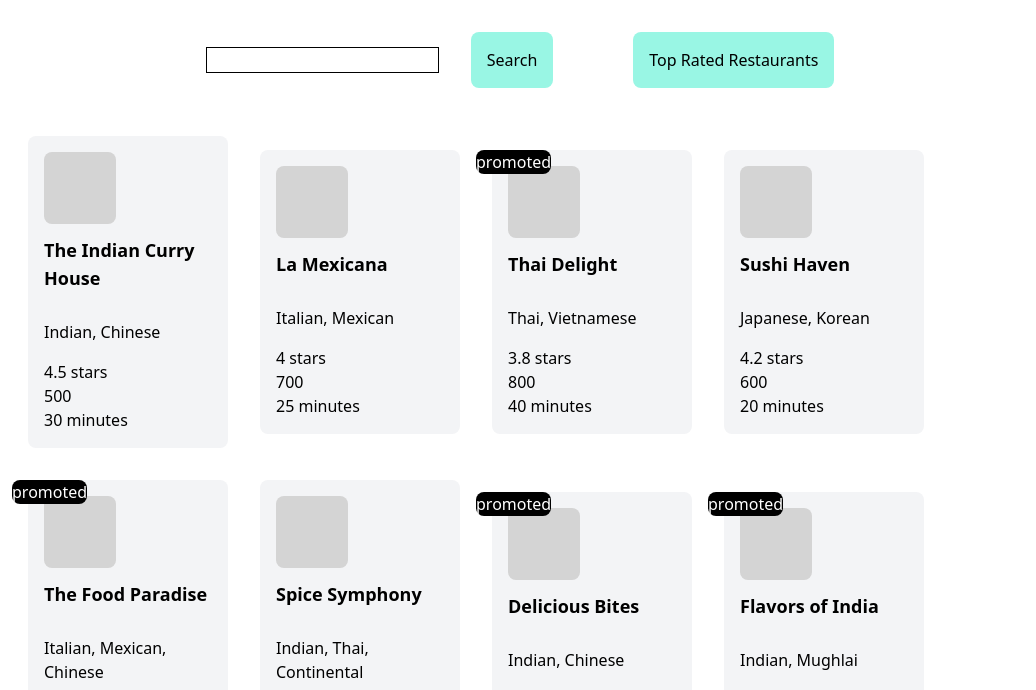
Test: should search relist for delight text input
Type "delight" into the field with test id "searchInput" at (322, 60), box top-left (206, 47), bottom-right (439, 73)
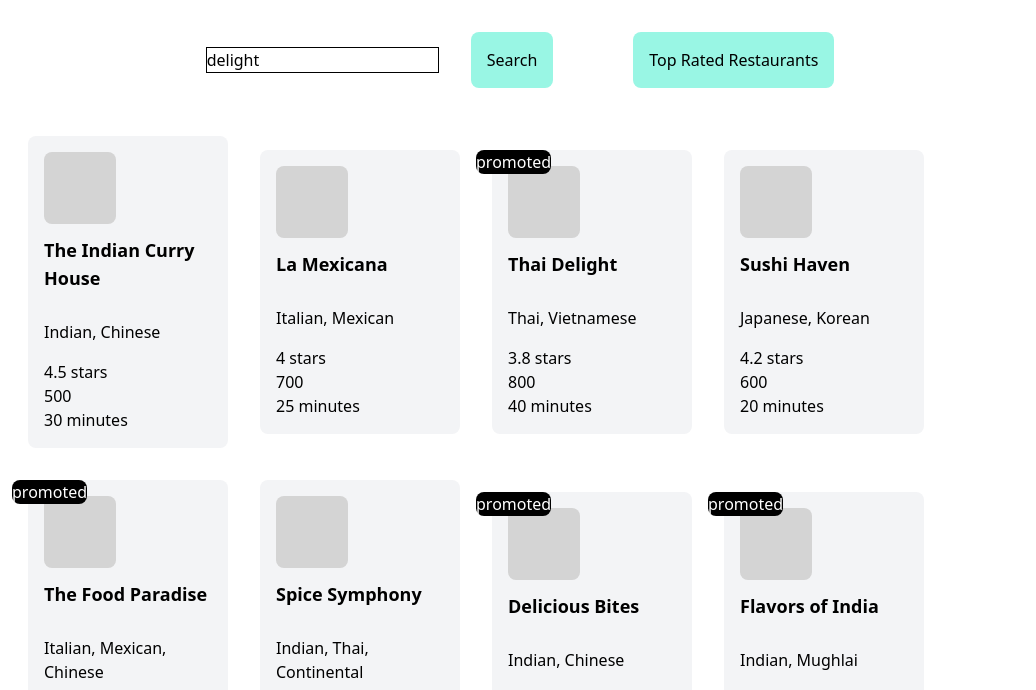
// clickEvent
Click the button "Search" at (512, 60), box top-left (471, 32), bottom-right (553, 88)
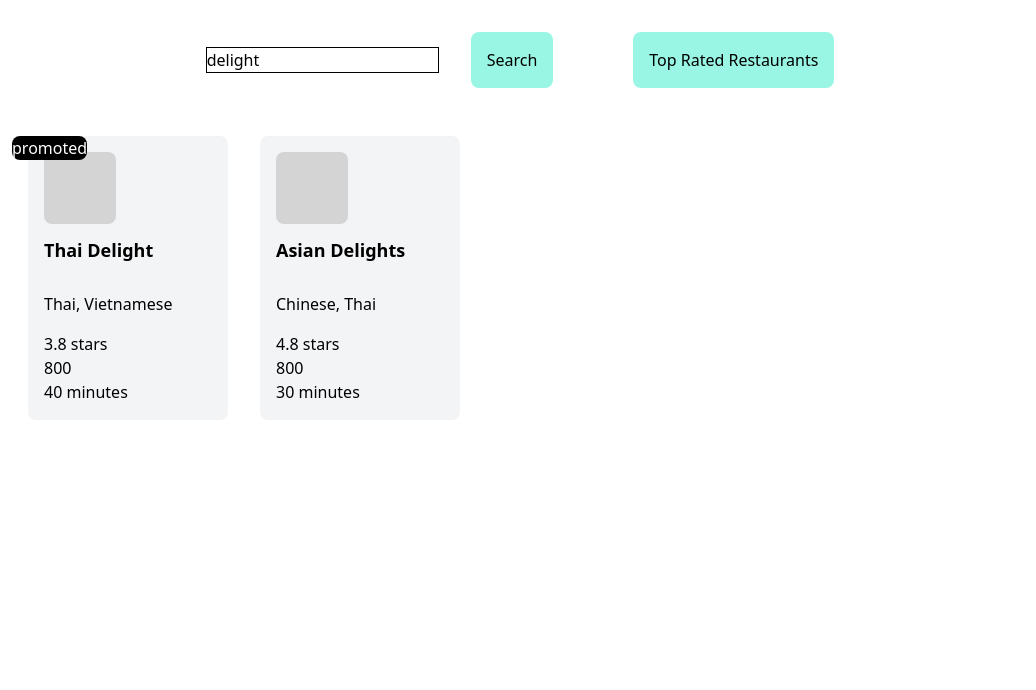
Now the number of elements with test id "resCard" is 2, box top-left (28, 136), bottom-right (228, 420); top-left (260, 136), bottom-right (460, 420)
